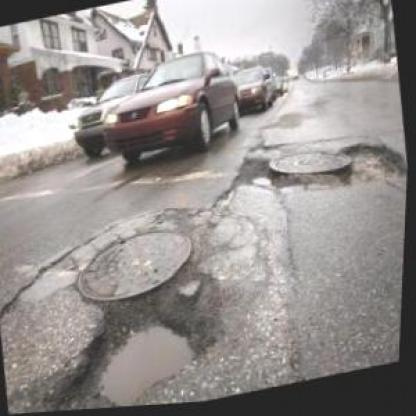pothole: (29, 266, 240, 412), (337, 135, 409, 201), (226, 150, 280, 204)
